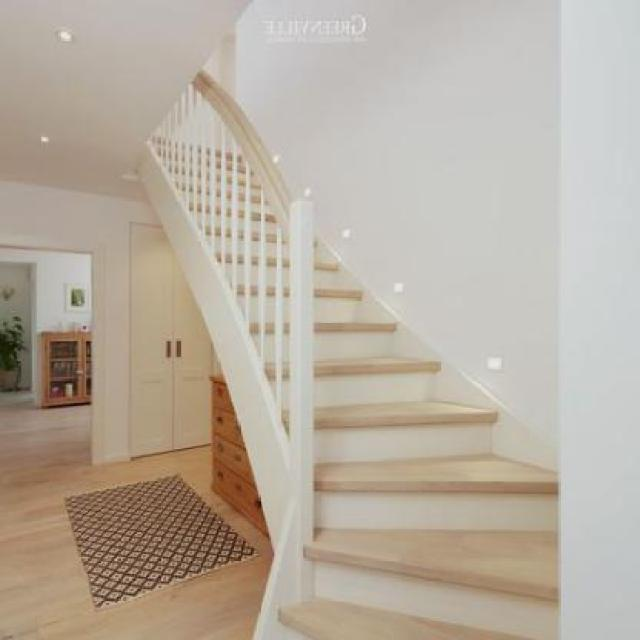stair: (111, 119, 597, 638)
